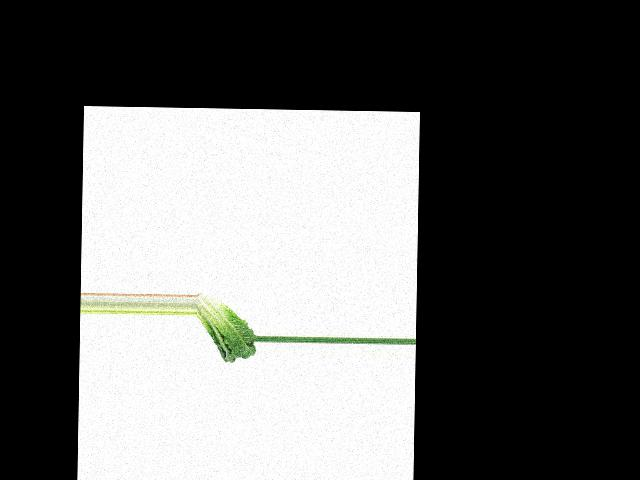lettuce: (195, 292, 256, 364)
